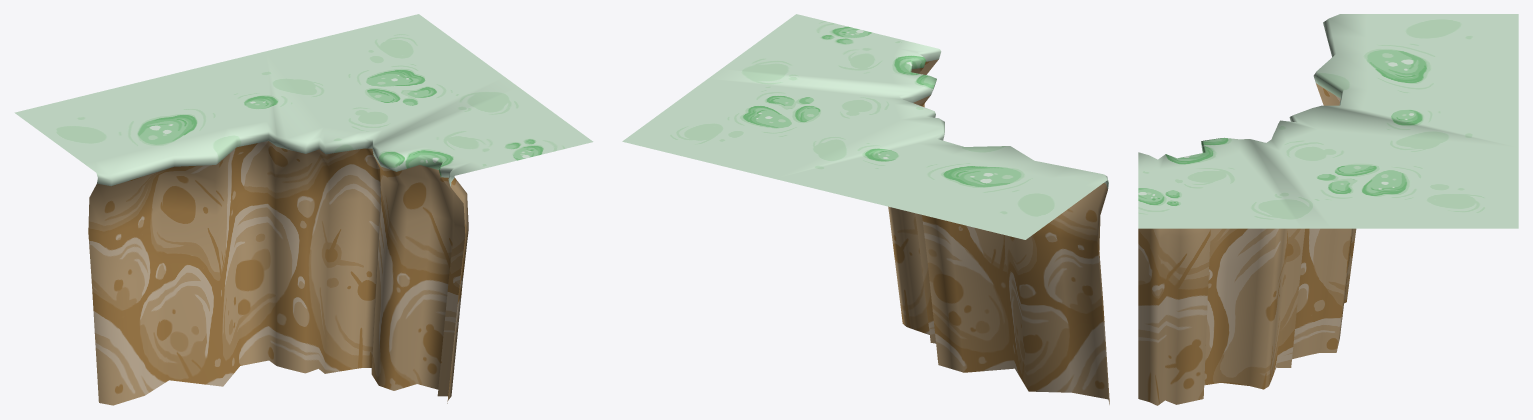
File: SM_environment_curve_inside_01_mar30.fbx
The picture shows the model from 3 angles, left to right: view 1: azimuth 30°, elevation 25°; view 2: azimuth 150°, elevation 25°; view 3: azimuth 270°, elevation 25°; orthographic projection. The views are drawn at different scales.
Visible parts, largest first — view 1: SM_tile_curve_inside_01; view 2: SM_tile_curve_inside_01; view 3: SM_tile_curve_inside_01.
Boxes of the visible parts, box(x1,y1,x2,y2) form: SM_tile_curve_inside_01: box(14, 14, 593, 405); SM_tile_curve_inside_01: box(622, 14, 1109, 404); SM_tile_curve_inside_01: box(1138, 14, 1518, 405).
Bounding box in the file's own units: 3231 × 1742 × 2418.
